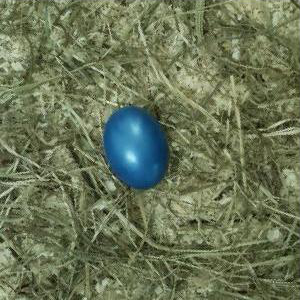rubik: (104, 107, 169, 190)
